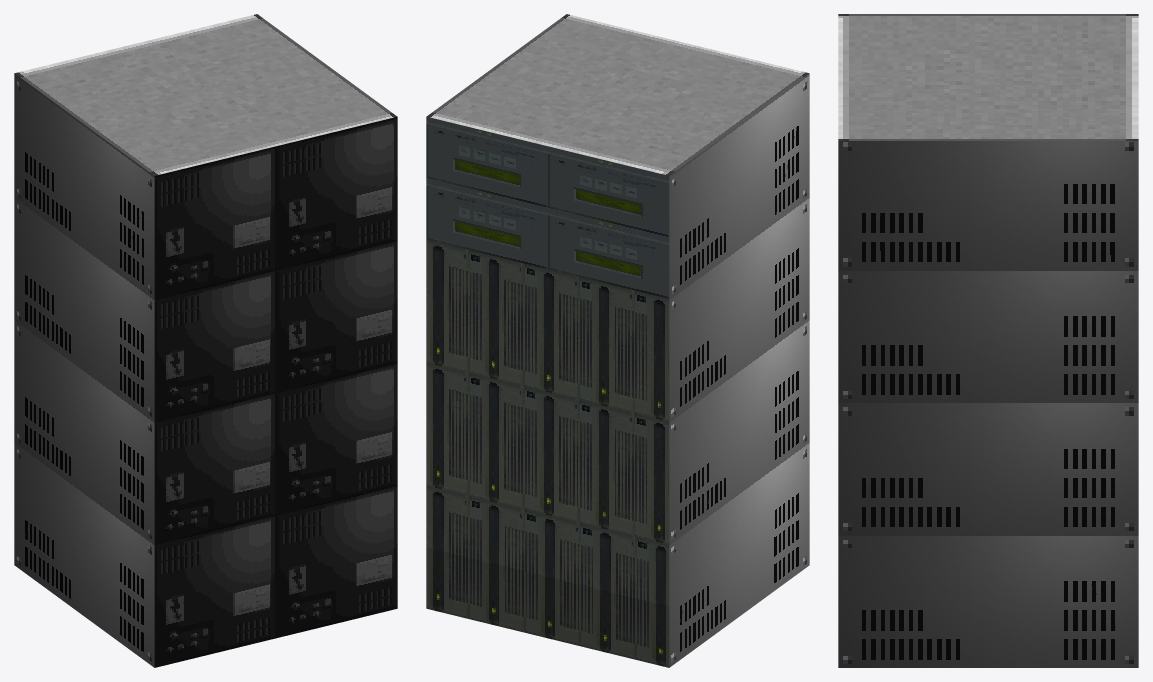
Rendered from primary_072.glb.
3 renders of one model, left to right at view 1: azimuth 30°, elevation 25°; view 2: azimuth 150°, elevation 25°; view 3: azimuth 270°, elevation 25°, orthographic. The views are drawn at different scales.
Parts seen in each view (by area): view 1: Object; view 2: Object; view 3: Object.
Boxes of the visible parts, x1,y1,x2,y2 form: Object: (14,14,397,667); Object: (426,14,809,667); Object: (838,14,1138,667).
Bounding box in the file's own units: 1.06 × 2.05 × 1.06.
Materials: 9 (9 with a texture image).
